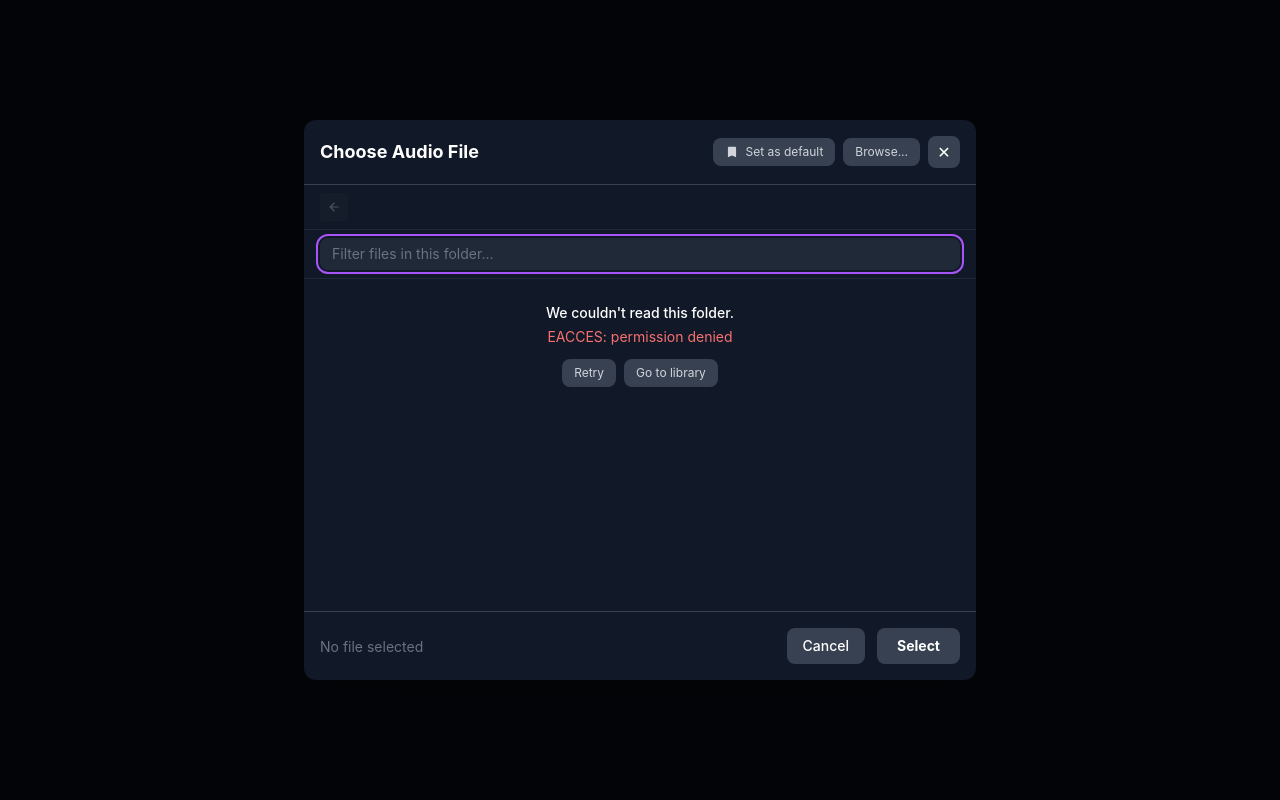
Test: AudioFilePicker — failure and retry › a failed directory read shows a friendly line, the underlying message, and a working Retry
Expected: the text "We couldn't read this folder." is shown, [546,304,734,321]
Expected: the text "EACCES: permission denied" is shown, [547,328,733,345]
Step 1. Click the button "Retry" → (589, 373), box [562,359,616,387]
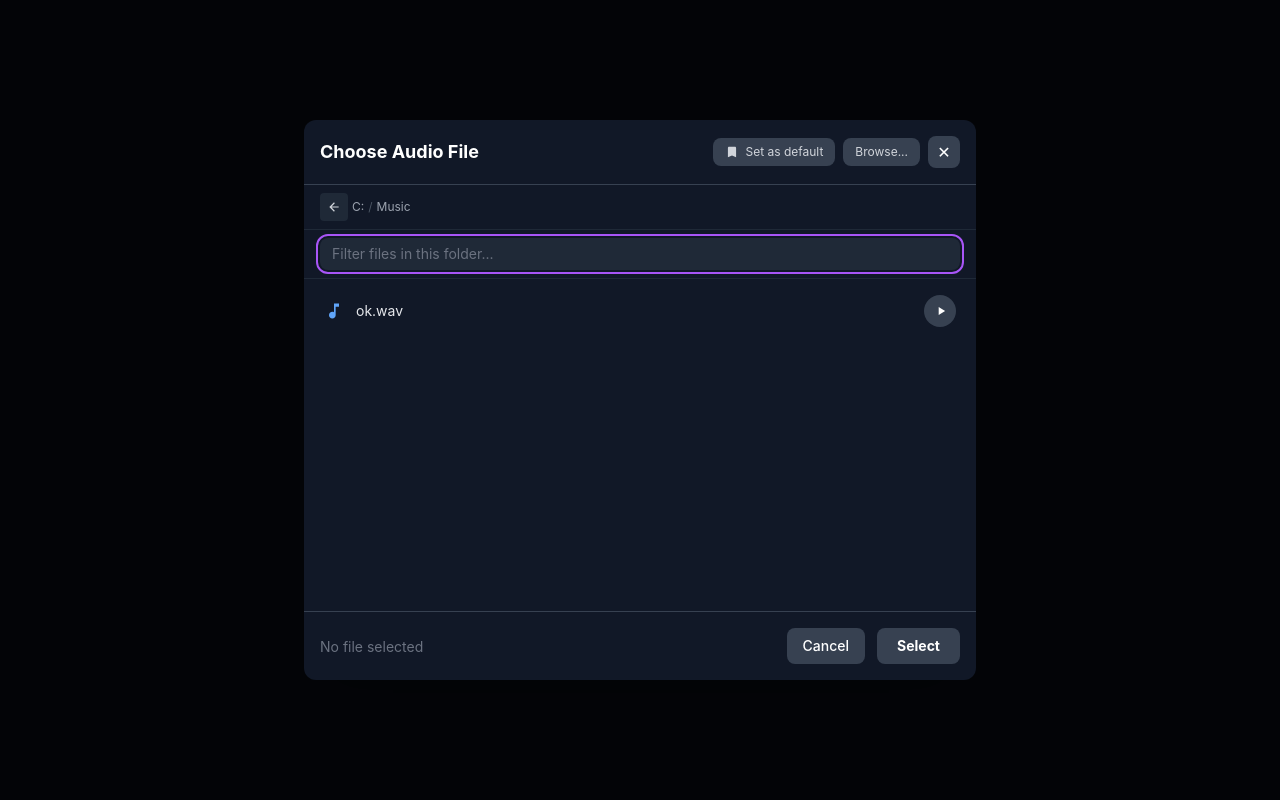
Now the text "ok.wav" is shown, box [356,302,403,319]
